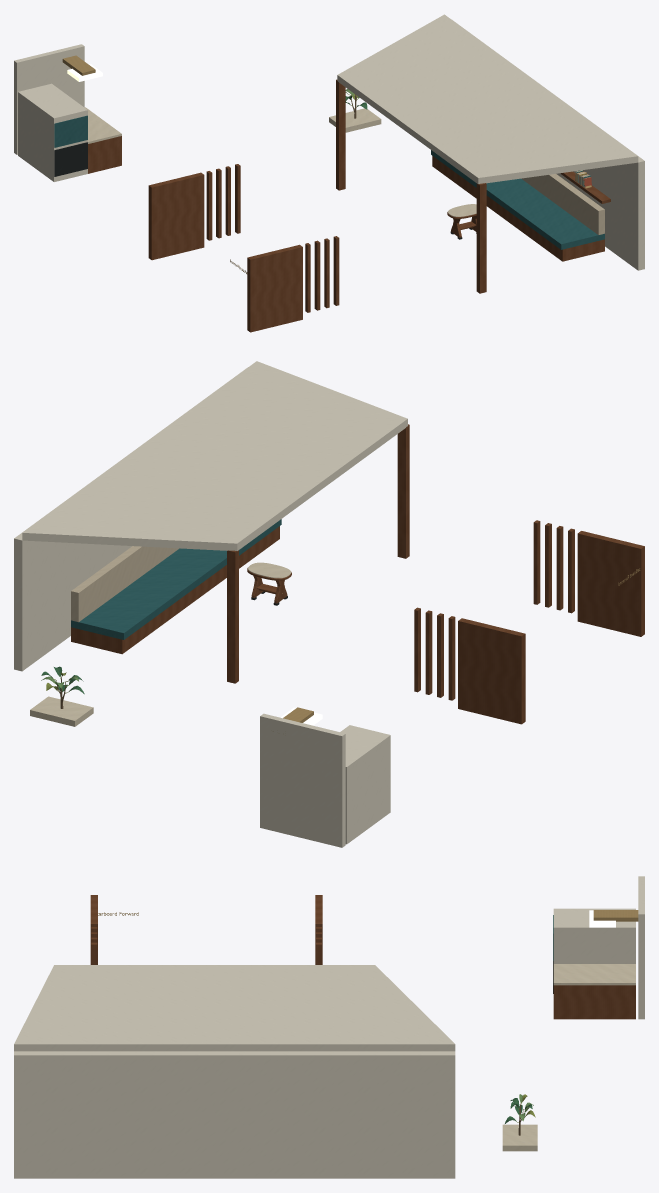
Rendered from starboard_forward_upper_house.glb.
3 views of the same model, one above another, from view 1: azimuth 30°, elevation 25°; view 2: azimuth 150°, elevation 25°; view 3: azimuth 270°, elevation 25° (orthographic). The views are drawn at different scales.
Parts seen in each view (by area): view 1: QuietFanCover, QuietGalleryBacking, InnerPrivacyReturn1, InnerPrivacyReturn0, CareClosedStore, FittedQuietBenchCushion, CareTaskBacking, FittedQuietBenchBack, FittedQuietBenchFoot, FanBearingPost0, FanBearingPost1, CareWorkBay (+7 smaller); view 2: QuietFanCover, CareTaskBacking, QuietGalleryBacking, InnerPrivacyReturn1, InnerPrivacyReturn0, FittedQuietBenchCushion, CareClosedStore, FittedQuietBenchBack, FittedQuietBenchFoot, FanBearingPost0, FanBearingPost1, GalleryPlantPlinth; view 3: QuietGalleryBacking, QuietFanCover, CareClosedStore, CareWorkBay, CareStoneSurface, CareTaskBacking, GalleryPlantPlinth, CareTaskArm.
Boxes of the visible parts, box(x1,y1,x2,y2) form: QuietFanCover: box(337, 14, 638, 183); QuietGalleryBacking: box(452, 20, 644, 270); InnerPrivacyReturn1: box(148, 172, 204, 260); InnerPrivacyReturn0: box(247, 244, 302, 332); CareClosedStore: box(18, 83, 87, 181); FittedQuietBenchCushion: box(431, 150, 604, 249); CareTaskBacking: box(14, 44, 84, 154); FittedQuietBenchBack: box(521, 174, 604, 234); FittedQuietBenchFoot: box(432, 156, 604, 261); FanBearingPost0: box(476, 183, 486, 293); FanBearingPost1: box(336, 79, 345, 190); CareWorkBay: box(88, 136, 121, 173); QuietFanCover: box(22, 361, 407, 550); CareTaskBacking: box(260, 713, 345, 847); QuietGalleryBacking: box(14, 367, 247, 671); InnerPrivacyReturn1: box(458, 618, 525, 724); InnerPrivacyReturn0: box(577, 531, 644, 636); FittedQuietBenchCushion: box(71, 519, 281, 639); CareClosedStore: box(340, 725, 390, 844); FittedQuietBenchBack: box(71, 546, 179, 622); FittedQuietBenchFoot: box(71, 526, 279, 654); FanBearingPost0: box(397, 424, 409, 558); FanBearingPost1: box(227, 550, 238, 683); GalleryPlantPlinth: box(30, 696, 93, 726); QuietGalleryBacking: box(14, 1051, 455, 1178); QuietFanCover: box(14, 965, 455, 1051); CareClosedStore: box(553, 908, 635, 963); CareWorkBay: box(553, 985, 635, 1019); CareStoneSurface: box(553, 964, 635, 985); CareTaskBacking: box(638, 876, 644, 1019); GalleryPlantPlinth: box(502, 1124, 537, 1151); CareTaskArm: box(593, 910, 638, 921).
Size of the model in its own units: 10.65 by 3.23 by 14.15.
Materials: 23 (22 with a texture image).
